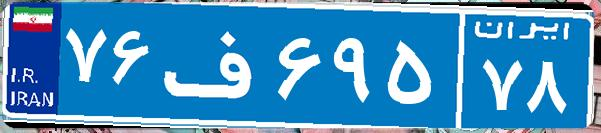5: (385, 28, 445, 110)
6: (273, 28, 330, 110), (110, 28, 158, 105)
7: (57, 26, 110, 107), (475, 38, 525, 113)
8: (525, 38, 570, 115)
9: (330, 28, 385, 110)
ف: (158, 15, 273, 115)
